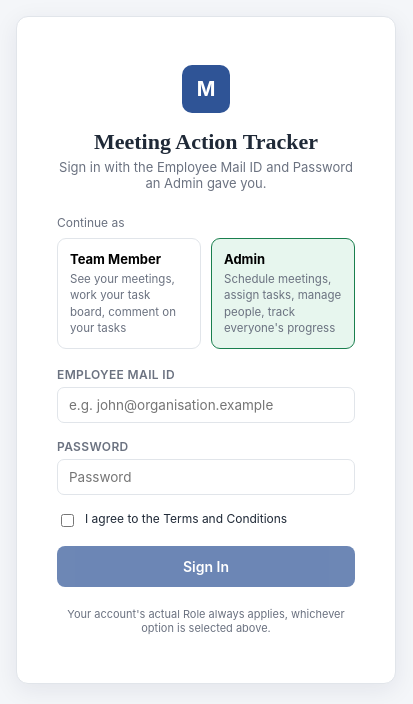
LoginPage › keeps Sign In disabled until the Terms and Conditions checkbox is checked, on either sign-in option
Expected: the checkbox labelled "I agree to the Terms and Conditions" is not checked, [61,514,74,527]
Expected: the button "Sign In" is disabled, [57,546,355,587]
Click the radio button labelled "Team Member": x=129, y=294 [57,238,201,349]
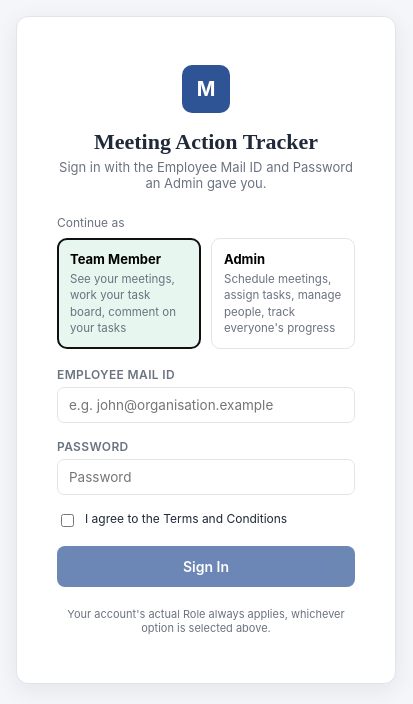
Expected: the button "Sign In" is disabled, [57,546,355,587]
Click the checkbox labelled "I agree to the Terms and Conditions": x=68, y=520 [61,514,74,527]
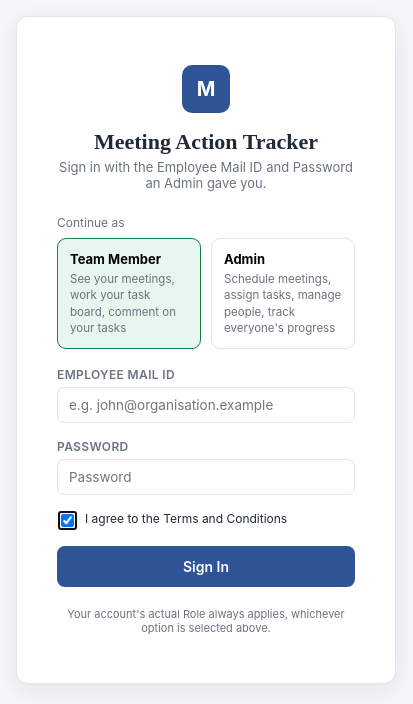
Now the button "Sign In" is enabled, box [57,546,355,587]
Click the checkbox labelled "I agree to the Terms and Conditions": x=68, y=520 [61,514,74,527]
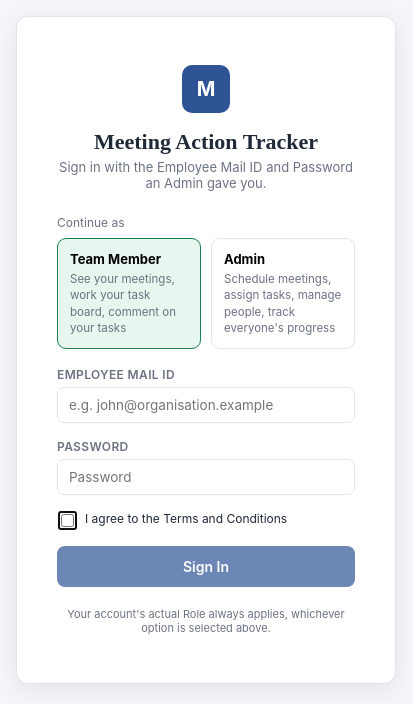
Now the button "Sign In" is disabled, box [57,546,355,587]
